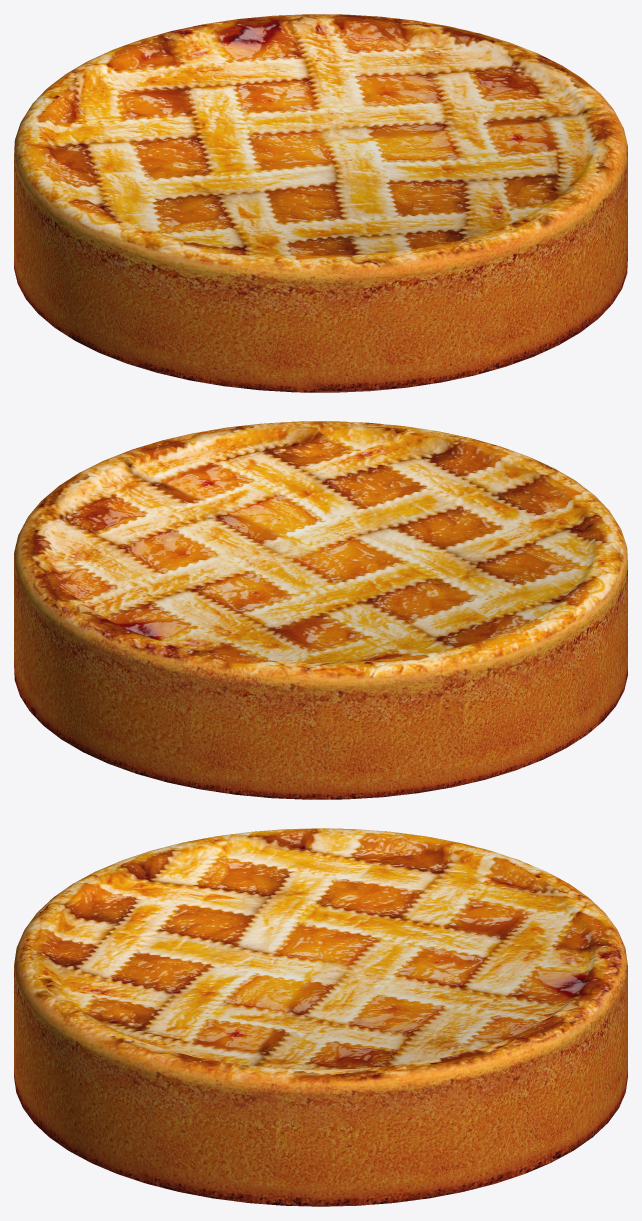
The model's file is Pastiera.fbx.
The picture shows the model from 3 angles, top to bottom: view 1: azimuth 30°, elevation 25°; view 2: azimuth 150°, elevation 25°; view 3: azimuth 270°, elevation 25°; orthographic projection.
Visible parts, largest first — view 1: Pastiera; view 2: Pastiera; view 3: Pastiera.
Boxes of the visible parts, x1,y1,x2,y2 form: Pastiera: (14, 14, 627, 392); Pastiera: (14, 421, 627, 799); Pastiera: (14, 828, 627, 1206).
Size of the model in its own units: 200 by 44.75 by 200.
Materials: 1 (1 with a texture image).
